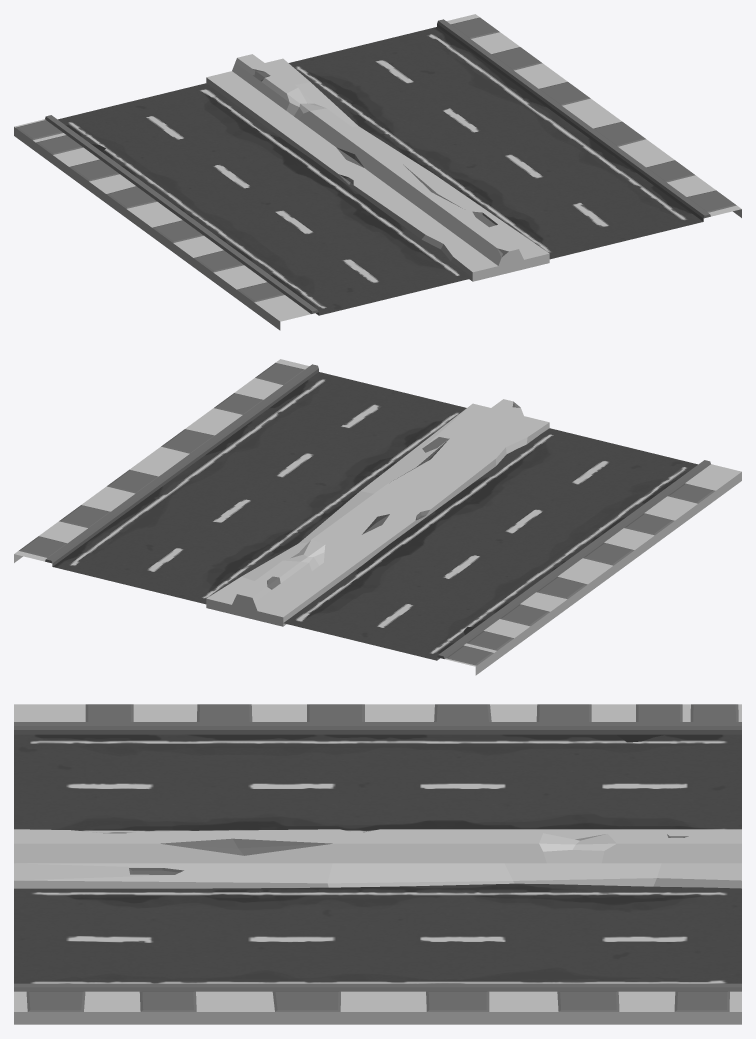
The model's file is Road_Wide_03.fbx.
The picture shows the model from 3 angles, top to bottom: view 1: azimuth 30°, elevation 25°; view 2: azimuth 150°, elevation 25°; view 3: azimuth 270°, elevation 25°; orthographic projection. The views are drawn at different scales.
Visible parts, largest first — view 1: Road_Wide_03; view 2: Road_Wide_03; view 3: Road_Wide_03.
Part boxes in pixels (x1,y1,x2,y2): Road_Wide_03: [14, 14, 741, 330]; Road_Wide_03: [14, 359, 741, 675]; Road_Wide_03: [14, 704, 741, 1024].
Size of the model in its own units: 2400 by 117 by 2400.
